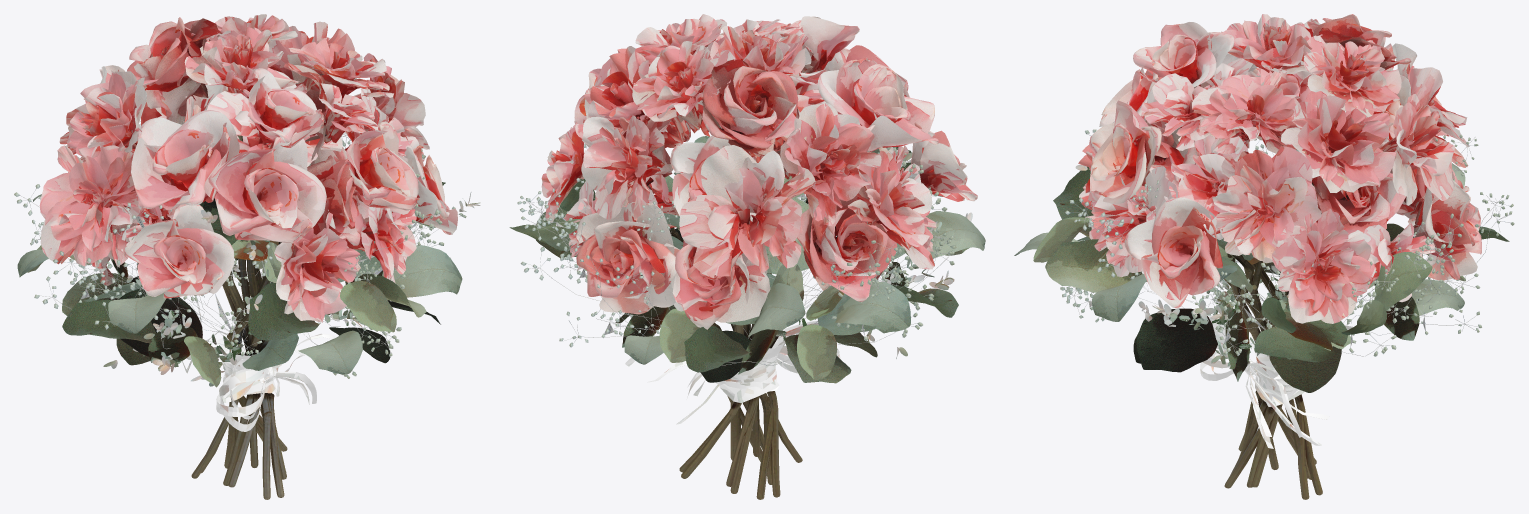
File: flower_bouquet.gltf
The picture shows the model from 3 angles, left to right: view 1: azimuth 30°, elevation 25°; view 2: azimuth 150°, elevation 25°; view 3: azimuth 270°, elevation 25°; orthographic projection. The views are drawn at different scales.
Visible parts, largest first — view 1: Leaves_003, Leaves_002, Petal_010, Petal_005, Petal_012, Petal_004, Stems, Petal_022, Petal_019, Petal_002, Petal_008, Petal_025 (+25 smaller); view 2: Leaves_002, Petal_001, Petal_016, Petal_002, Petal_019, Petal_012, Petal_014, Petal_009, Stems, Petal_010, Petal_003, Petal_007 (+24 smaller); view 3: Leaves_003, Petal_017, Petal_018, Petal_015, Petal_021, Leaves_001, Petal_020, Stems, Petal_007, Petal_008, Petal_014, Petal_016 (+26 smaller).
Part boxes in pixels (x1,y1,x2,y2): Leaves_003: [136, 198, 462, 374]; Leaves_002: [17, 194, 298, 387]; Petal_010: [39, 143, 138, 267]; Petal_005: [208, 132, 326, 243]; Petal_012: [131, 110, 239, 210]; Petal_004: [124, 204, 234, 298]; Stems: [191, 135, 287, 499]; Petal_022: [274, 209, 360, 322]; Petal_019: [127, 17, 222, 124]; Petal_002: [67, 70, 146, 162]; Petal_008: [346, 121, 418, 214]; Petal_025: [247, 68, 323, 149]; Leaves_002: [622, 197, 985, 383]; Petal_001: [679, 145, 815, 278]; Petal_016: [576, 202, 676, 314]; Petal_002: [780, 102, 881, 225]; Petal_019: [701, 59, 800, 155]; Petal_012: [817, 57, 938, 151]; Petal_014: [581, 115, 665, 220]; Petal_009: [797, 196, 897, 302]; Stems: [670, 198, 808, 499]; Petal_010: [847, 150, 936, 269]; Petal_003: [664, 212, 770, 329]; Petal_007: [632, 41, 735, 121]; Leaves_003: [1014, 166, 1341, 392]; Petal_017: [1209, 145, 1321, 263]; Petal_018: [1272, 208, 1375, 323]; Petal_015: [1281, 91, 1396, 192]; Petal_021: [1124, 197, 1222, 308]; Leaves_001: [1217, 238, 1432, 362]; Petal_020: [1192, 71, 1301, 153]; Stems: [1224, 182, 1376, 499]; Petal_007: [1303, 34, 1401, 117]; Petal_008: [1089, 100, 1161, 204]; Petal_014: [1380, 94, 1455, 205]; Petal_016: [1403, 180, 1481, 280].
Bounding box in the file's own units: 0.3586 × 0.3863 × 0.3838.
Materials: 20 (20 with a texture image).
